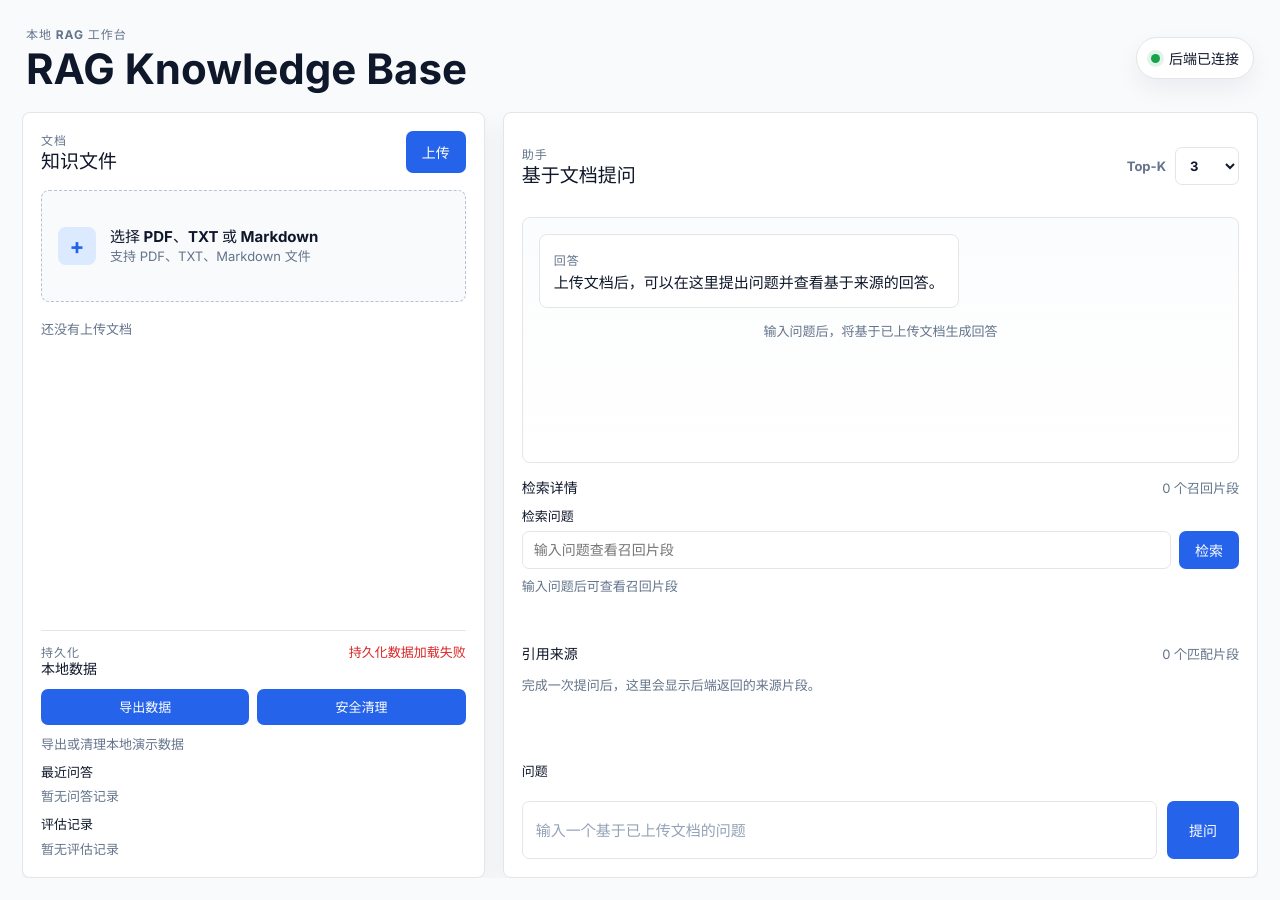
Scenario: App chat workflow › shows a chat error message when the backend rejects the request
Expected: the text "后端已连接" is shown, [1169,48,1239,68]
Type "现在可以提问吗？" into the field labelled "问题" at coordinates (839, 830), box [522,802,1157,859]
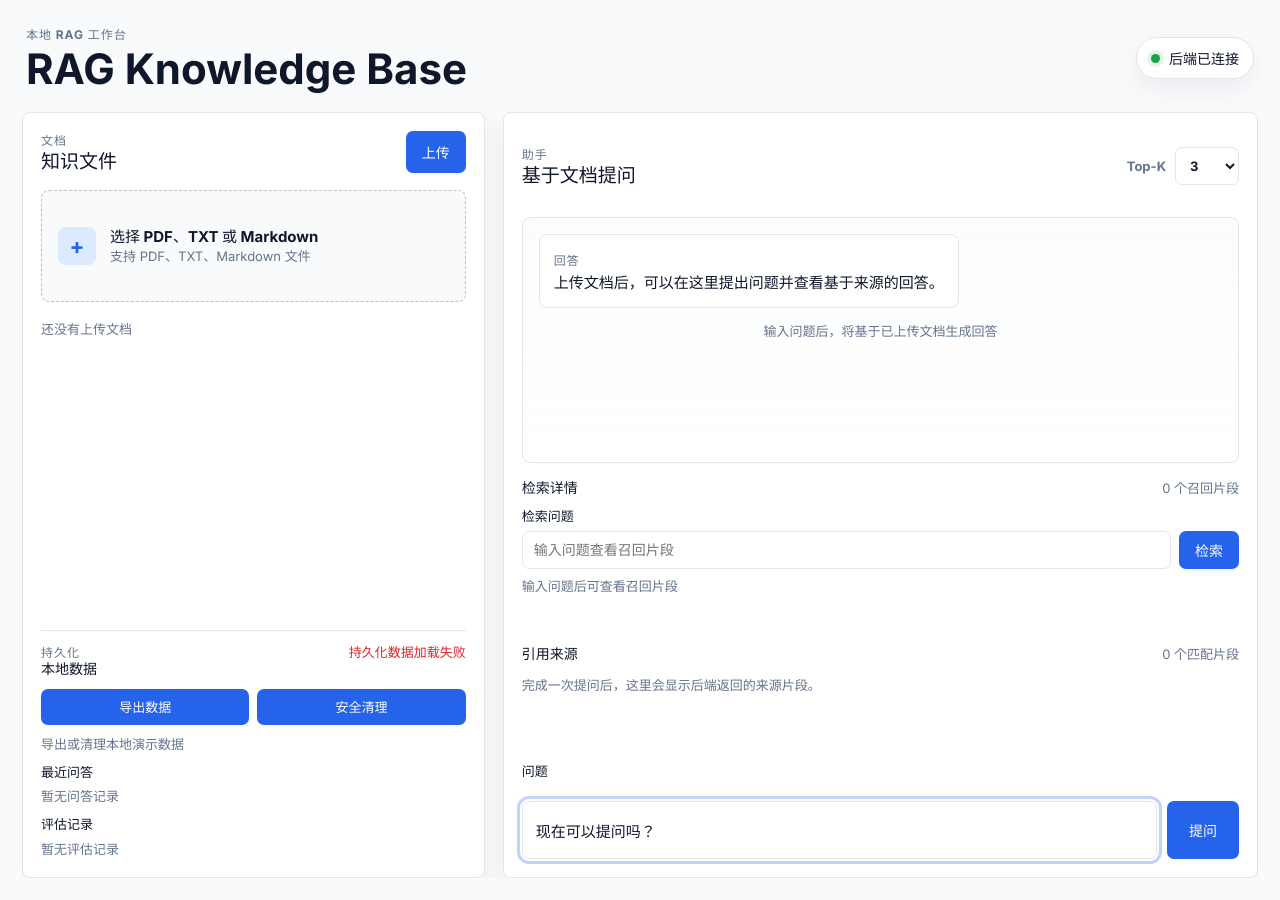
Click the button "提问" at coordinates (1203, 830), box [1167,802,1239,859]
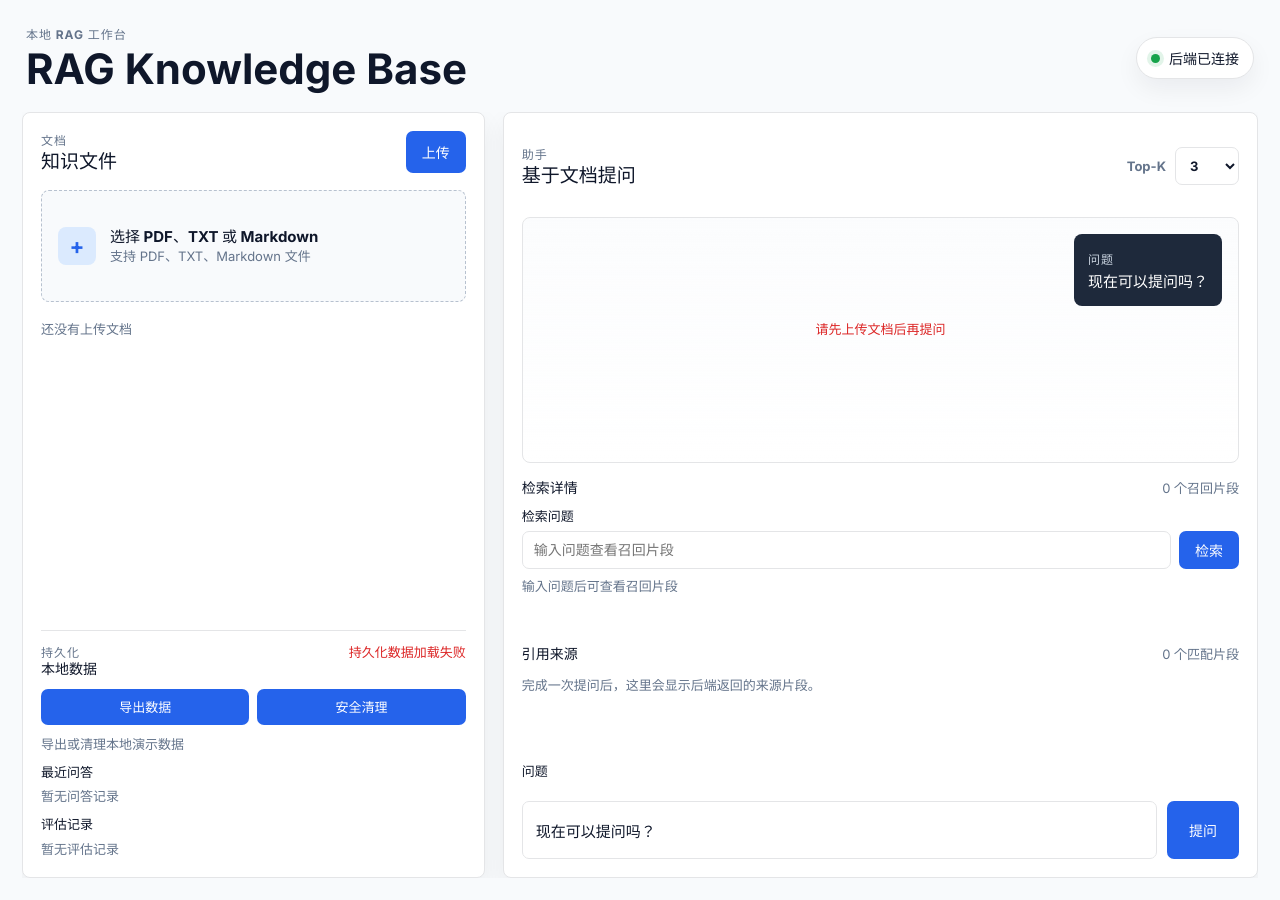
Expected: the text "请先上传文档后再提问" is shown, [815,318,945,341]
